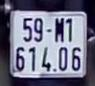0: (56, 45, 69, 72)
1: (28, 45, 38, 73), (65, 16, 73, 43)
4: (40, 44, 52, 72)
5: (21, 16, 33, 44)
6: (13, 43, 25, 73), (70, 44, 81, 72)
9: (34, 16, 45, 43)
M: (53, 15, 65, 43)
